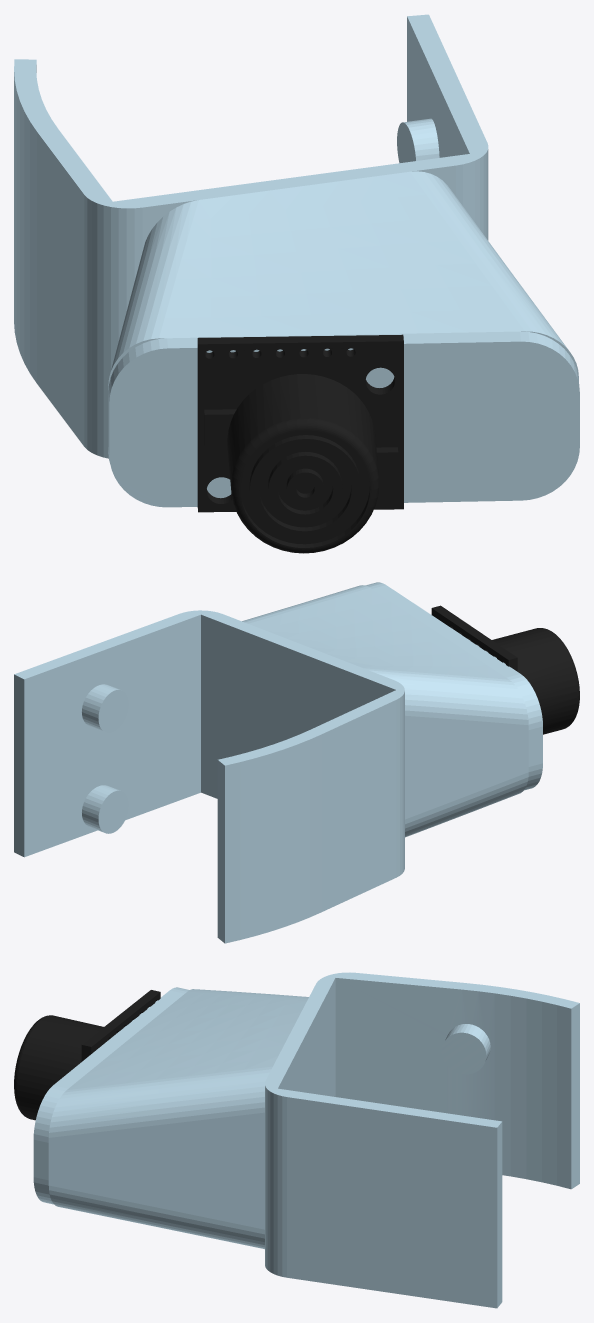
Rendered from Sonar_Bracket_Right.dae.
3 renders of one model, top to bottom at view 1: azimuth 30°, elevation 25°; view 2: azimuth 150°, elevation 25°; view 3: azimuth 270°, elevation 25°, orthographic. The views are drawn at different scales.
Visible parts, largest first — view 1: 5fb1c33226618d12282af2c2 (×2); view 2: 5fb1c33226618d12282af2c2 (×2); view 3: 5fb1c33226618d12282af2c2 (×2).
Part boxes in pixels (<box>): 5fb1c33226618d12282af2c2 (×2): <box>14,14,579,553</box>; 5fb1c33226618d12282af2c2 (×2): <box>14,582,579,943</box>; 5fb1c33226618d12282af2c2 (×2): <box>14,972,579,1308</box>.
Bounding box in the file's own units: 0.0666 × 0.0852 × 0.03.
